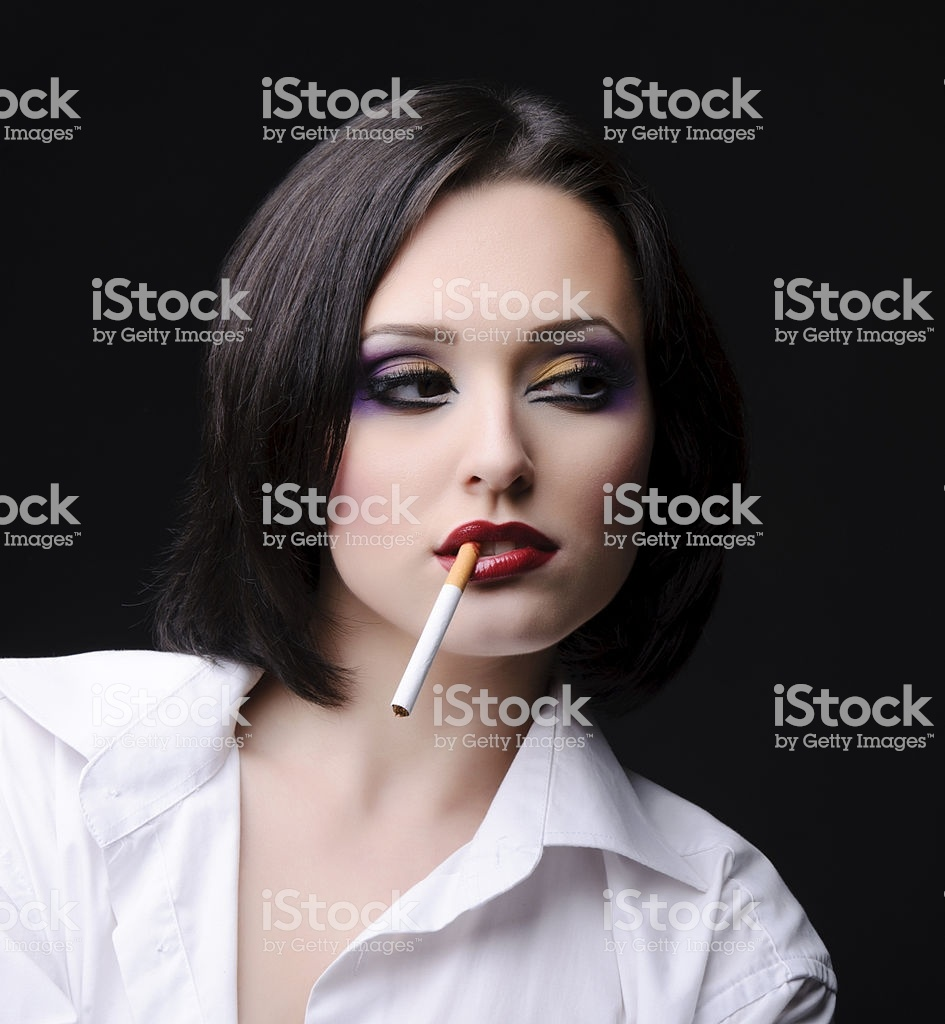sigaretta: (384, 525, 490, 730)
